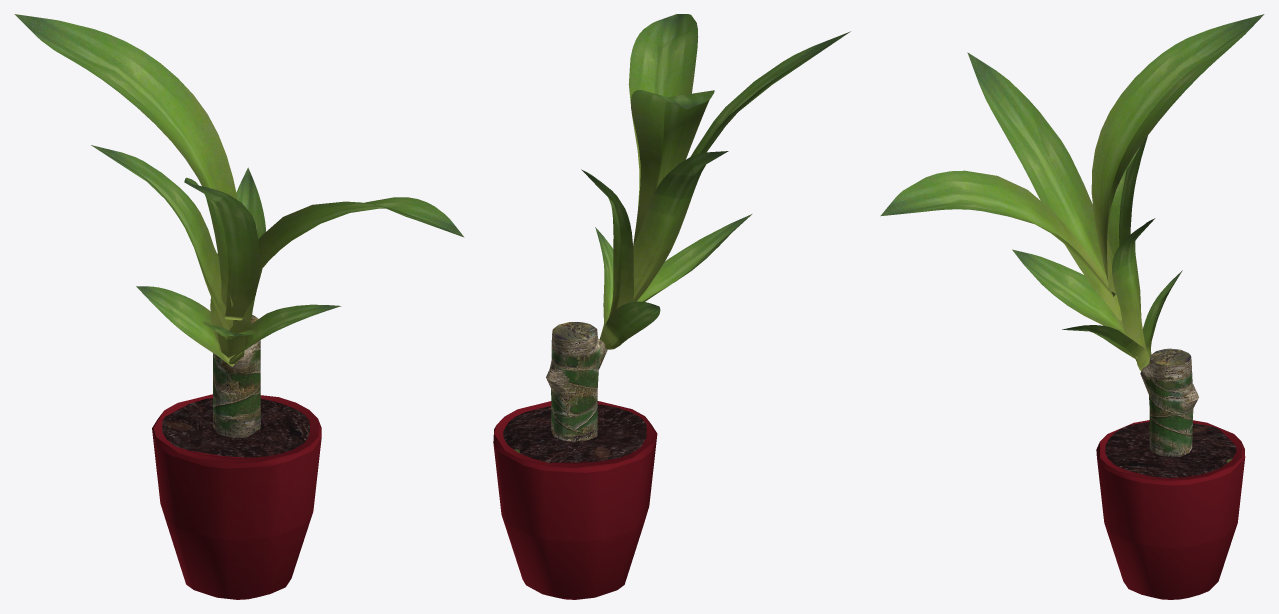
Rendered from HousePlant1.fbx.
The picture shows the model from 3 angles, left to right: view 1: azimuth 30°, elevation 25°; view 2: azimuth 150°, elevation 25°; view 3: azimuth 270°, elevation 25°; orthographic projection. The views are drawn at different scales.
Visible parts, largest first — view 1: polySurface36, polySurface19, polySurface64, polySurface18, polySurface35, polySurface13, polySurface16, polySurface14, polySurface21, polySurface34, polySurface33; view 2: polySurface36, polySurface35, polySurface19, polySurface64, polySurface13, polySurface16, polySurface21, polySurface18, polySurface33, polySurface14, polySurface34; view 3: polySurface36, polySurface19, polySurface18, polySurface13, polySurface35, polySurface64, polySurface33, polySurface21, polySurface16, polySurface34, polySurface14.
Boxes of the visible parts, <box> form: polySurface36: <box>152,394,321,599</box>; polySurface19: <box>14,14,237,307</box>; polySurface64: <box>162,398,309,457</box>; polySurface18: <box>184,177,260,320</box>; polySurface35: <box>213,315,260,437</box>; polySurface13: <box>258,197,464,271</box>; polySurface16: <box>91,145,233,339</box>; polySurface14: <box>136,286,234,366</box>; polySurface21: <box>210,167,265,344</box>; polySurface34: <box>229,304,341,364</box>; polySurface33: <box>202,321,258,358</box>; polySurface36: <box>493,401,657,599</box>; polySurface35: <box>546,322,607,441</box>; polySurface19: <box>630,90,714,245</box>; polySurface64: <box>503,404,646,462</box>; polySurface13: <box>628,14,698,208</box>; polySurface16: <box>633,151,728,301</box>; polySurface21: <box>581,169,633,317</box>; polySurface18: <box>690,31,850,156</box>; polySurface33: <box>637,214,751,301</box>; polySurface14: <box>601,301,660,349</box>; polySurface34: <box>595,227,613,340</box>; polySurface36: <box>1096,420,1245,599</box>; polySurface19: <box>1091,14,1264,296</box>; polySurface18: <box>967,52,1121,320</box>; polySurface13: <box>880,170,1113,295</box>; polySurface35: <box>1140,348,1198,456</box>; polySurface64: <box>1105,422,1236,477</box>; polySurface33: <box>1012,249,1136,361</box>; polySurface21: <box>1112,218,1155,358</box>; polySurface16: <box>1108,136,1147,330</box>; polySurface34: <box>1062,325,1149,369</box>; polySurface14: <box>1137,270,1182,370</box>.
Bounding box in the file's own units: 279 × 622 × 435.
5 materials, 5 textured.
